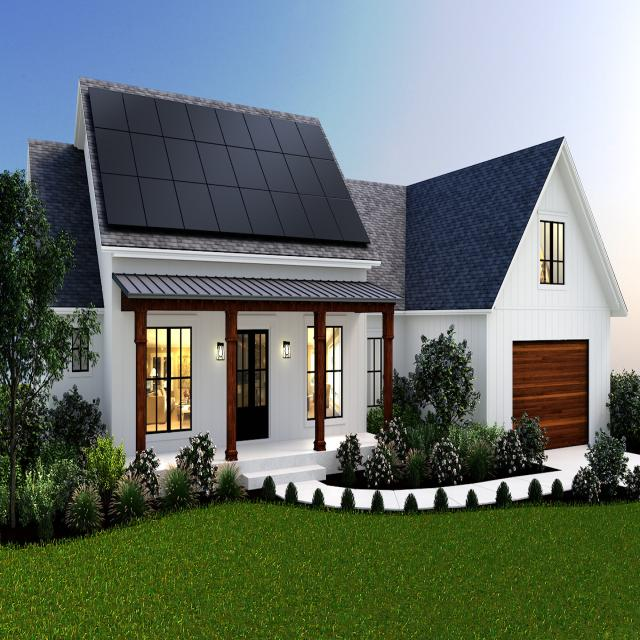clean-solar-panel: (258, 151, 296, 192)
